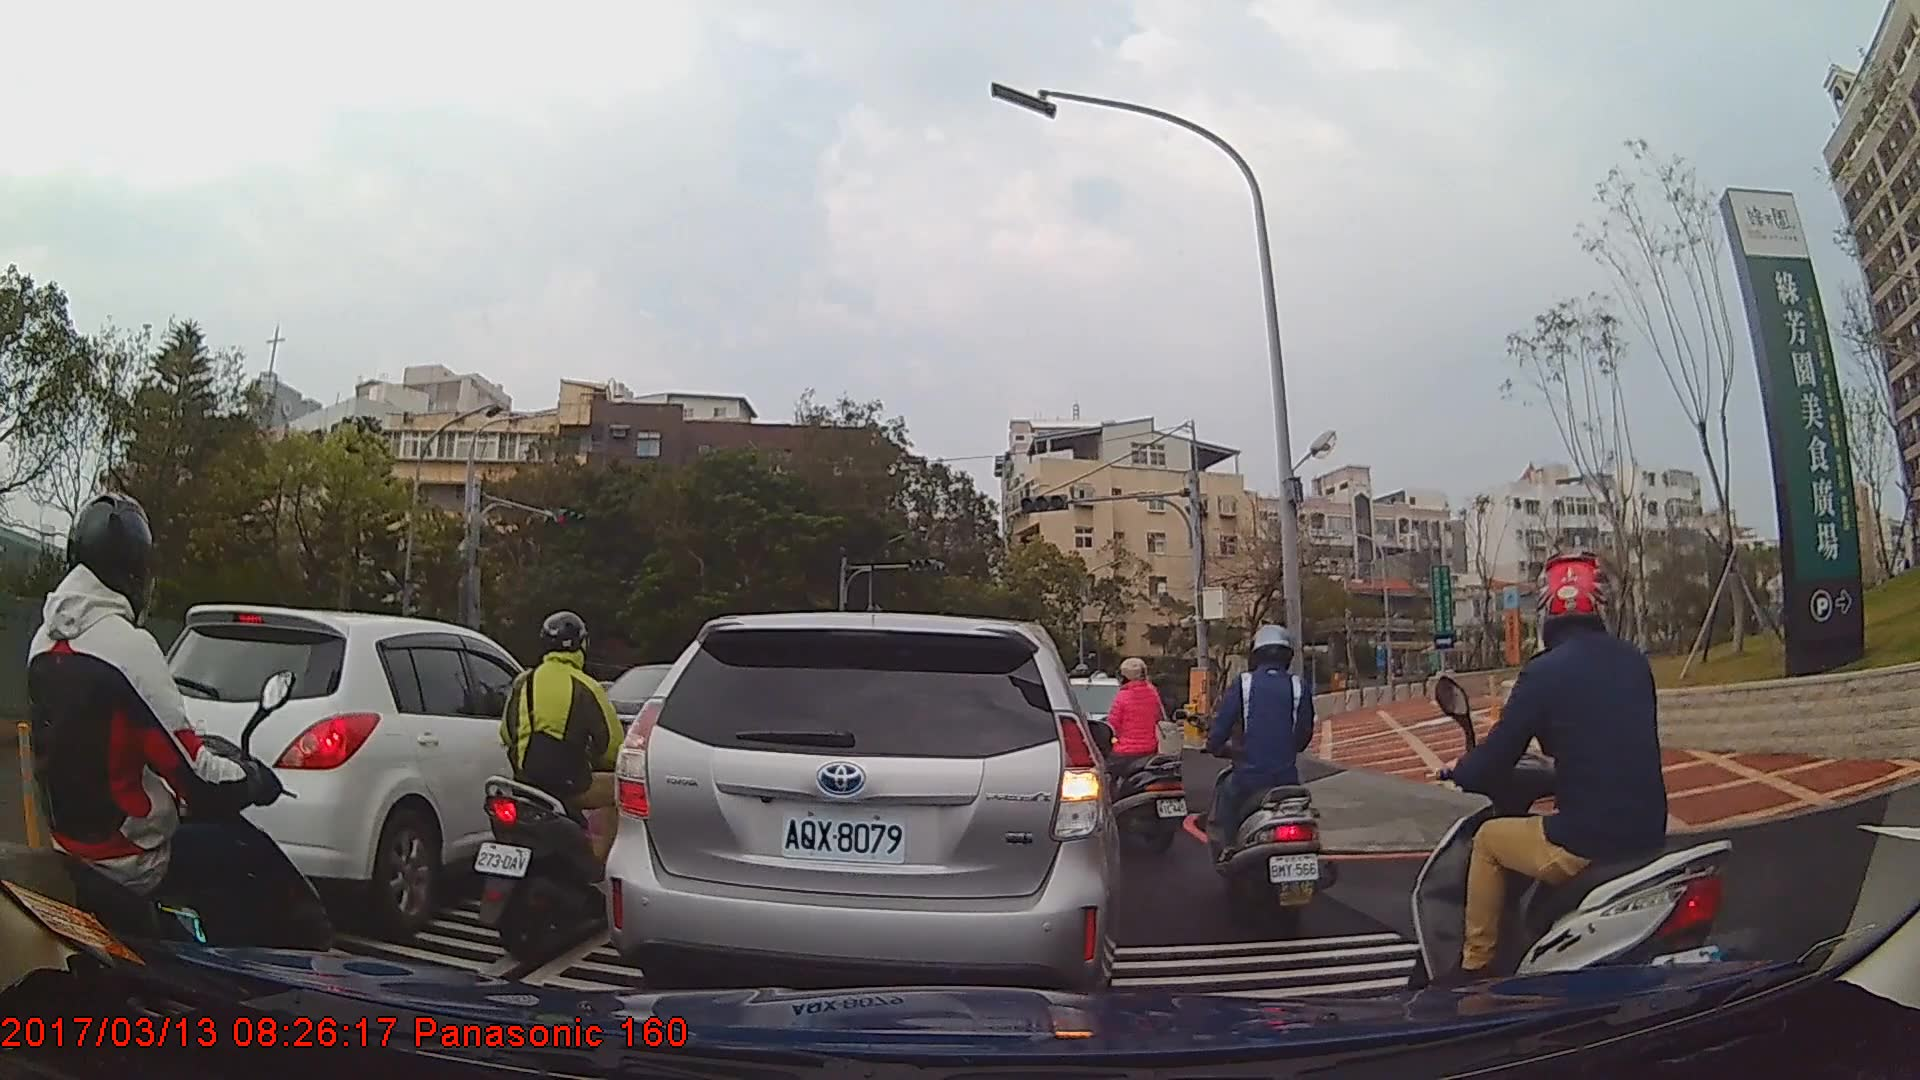rider: (1, 488, 342, 1059), (1403, 552, 1731, 1041), (477, 605, 660, 959), (1204, 616, 1330, 942), (1077, 654, 1186, 861)
vehicle: (602, 610, 1122, 1006), (109, 600, 592, 943)
